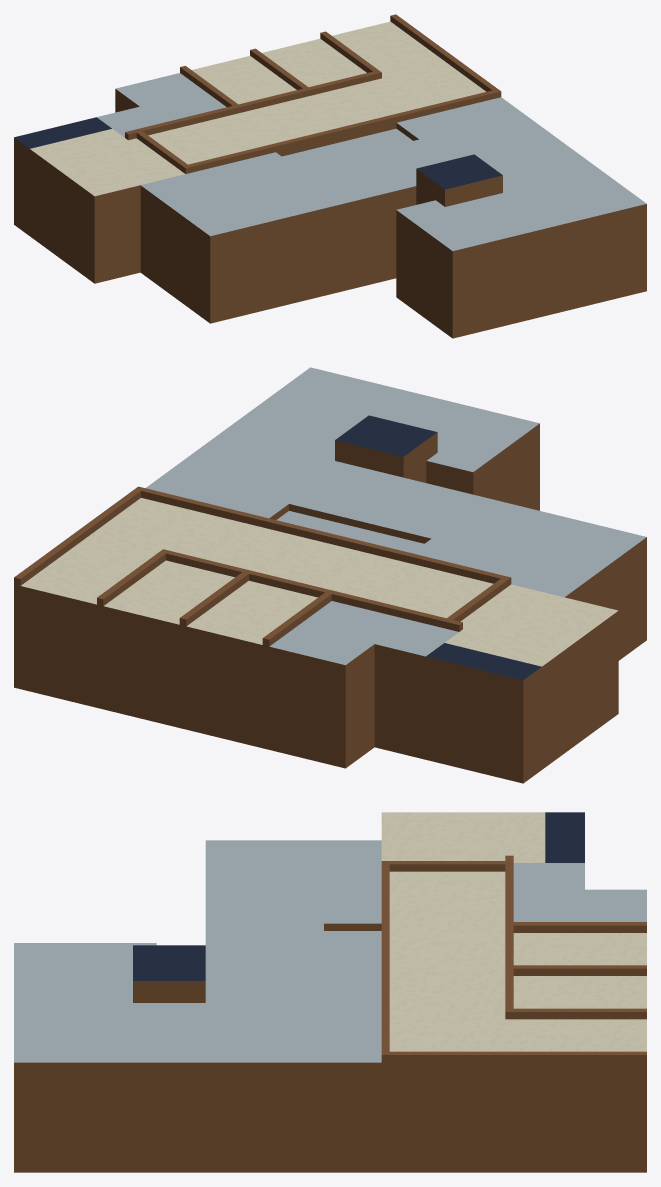
3 renders of one model, top to bottom at view 1: azimuth 30°, elevation 25°; view 2: azimuth 150°, elevation 25°; view 3: azimuth 270°, elevation 25°, orthographic. The views are drawn at different scales.
Visible parts, largest first — view 1: root; view 2: root; view 3: root.
Boxes of the visible parts, x1,y1,x2,y2 form: root: (14,14,646,338); root: (14,367,646,783); root: (14,812,646,1172).
Bounding box in the file's own units: 73.02 × 18 × 78.06.
Materials: 5 (1 with a texture image).
